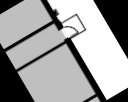door: (62, 20, 80, 39)
wall: (60, 35, 108, 102), (14, 37, 72, 79), (2, 16, 57, 55), (34, 0, 67, 35), (44, 89, 99, 102)
